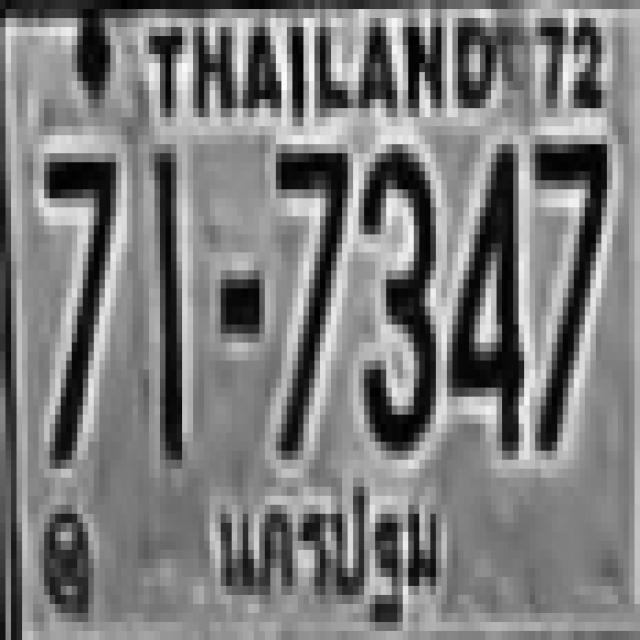1: (152, 144, 179, 460)
3: (359, 144, 430, 442)
4: (447, 135, 519, 451)
7: (530, 140, 607, 446), (41, 144, 113, 460), (273, 144, 345, 451), (41, 149, 113, 356)
NakhonPathom: (199, 483, 453, 640)
